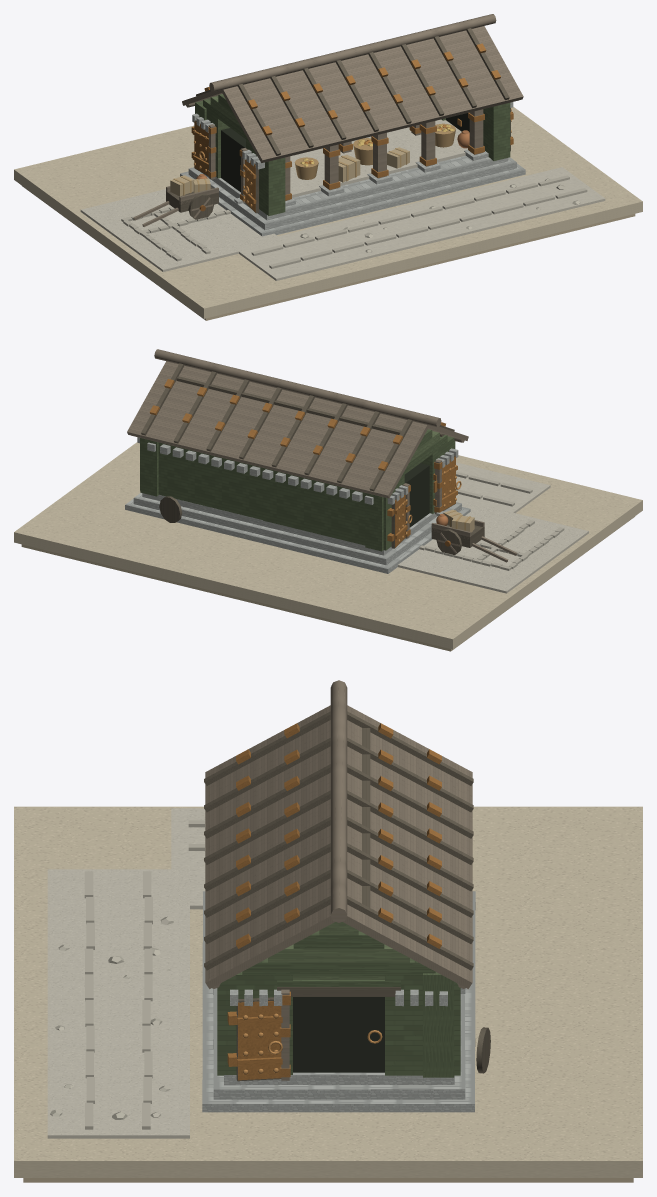
File: lin-1-built.glb
3 renders of one model, top to bottom at view 1: azimuth 30°, elevation 25°; view 2: azimuth 150°, elevation 25°; view 3: azimuth 270°, elevation 25°, orthographic. The views are drawn at different scales.
Bounding box in the file's own units: 40 × 12.51 × 30.
Materials: 42 (32 with a texture image).
